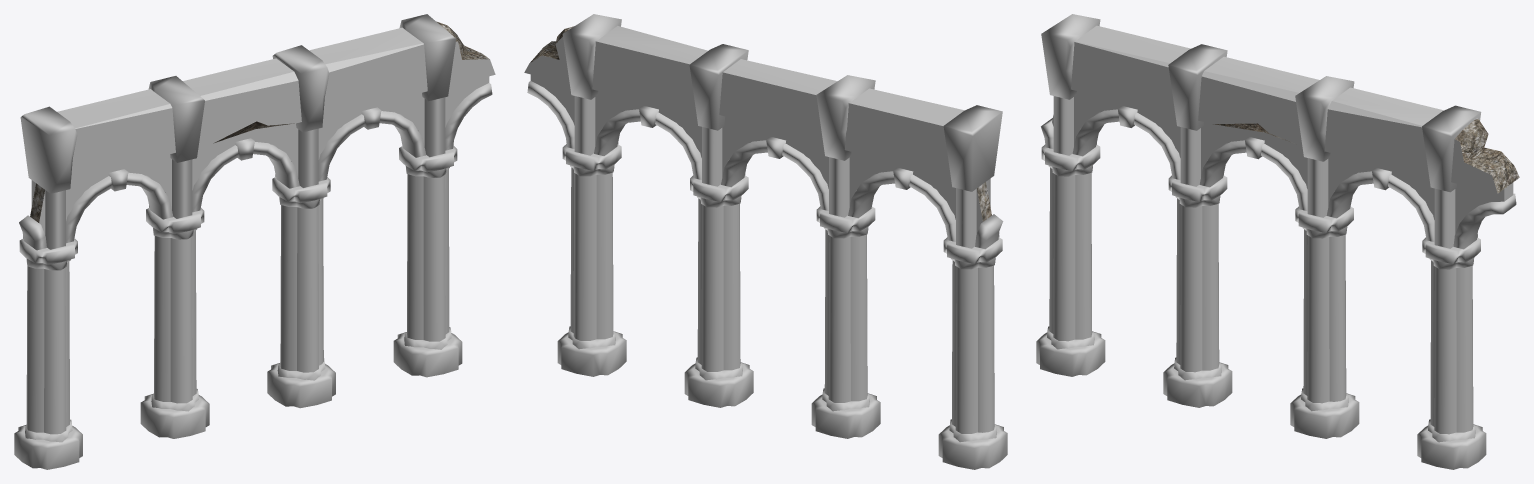
Rendered from Ruins_14_LOD1.fbx.
3 views of the same model, side by side, from view 1: azimuth 30°, elevation 25°; view 2: azimuth 150°, elevation 25°; view 3: azimuth 330°, elevation 25° (orthographic).
Parts seen in each view (by area): view 1: polySurface5347; view 2: polySurface5347; view 3: polySurface5347.
Part boxes in pixels (left/top/right/bottom): polySurface5347: left=14, top=14, right=495, bottom=469; polySurface5347: left=524, top=14, right=1007, bottom=469; polySurface5347: left=1036, top=14, right=1519, bottom=469.
Bounding box in the file's own units: 9.71 × 6.74 × 1.12.
